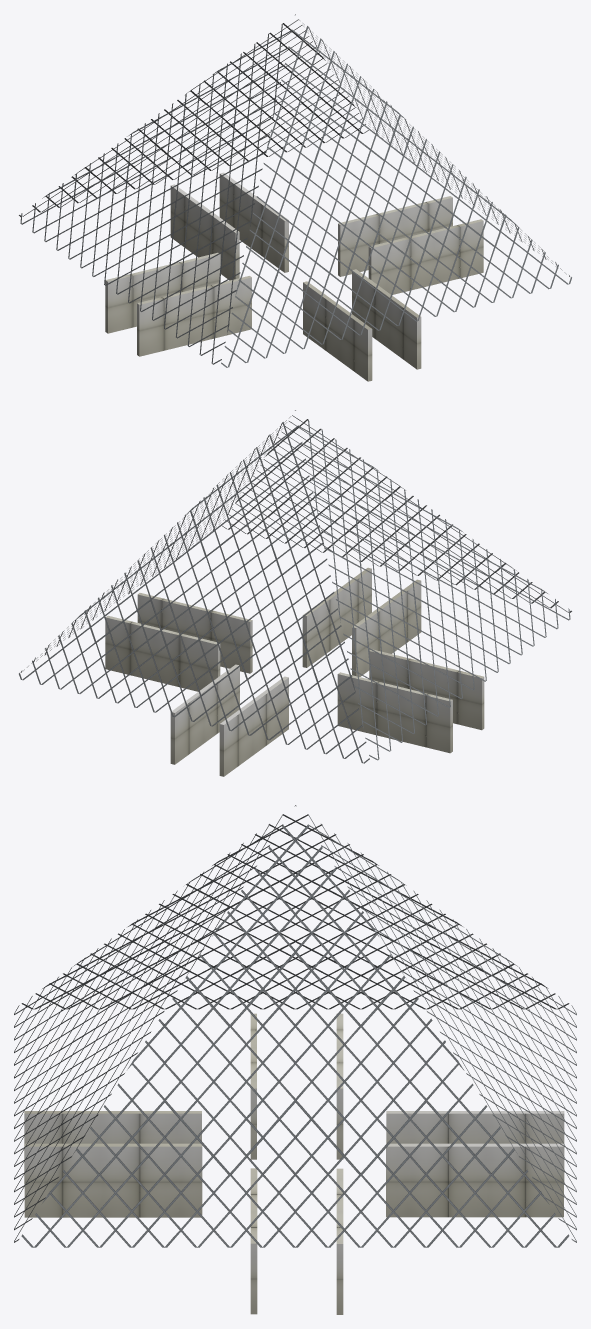
File: techo.obj
3 renders of one model, top to bottom at view 1: azimuth 30°, elevation 25°; view 2: azimuth 150°, elevation 25°; view 3: azimuth 270°, elevation 25°, orthographic. The views are drawn at different scales.
Visible parts, largest first — view 1: Pyramid001, Box009, Box008, Box010, Box011, Box014, Box007, Box012, Box013; view 2: Pyramid001, Box010, Box011, Box009, Box008, Box013, Box012, Box007, Box014; view 3: Pyramid001, Box007, Box012, Box013, Box014, Box011, Box008, Box010, Box009.
Boxes of the visible parts, x1,y1,x2,y2 form: Pyramid001: [19, 14, 571, 367]; Box009: [137, 276, 251, 356]; Box008: [368, 219, 483, 294]; Box010: [105, 252, 220, 333]; Box011: [338, 196, 452, 276]; Box014: [303, 281, 372, 381]; Box007: [352, 269, 421, 369]; Box012: [219, 172, 288, 272]; Box013: [170, 184, 239, 280]; Pyramid001: [19, 410, 571, 763]; Box010: [337, 672, 452, 753]; Box011: [105, 615, 220, 691]; Box009: [369, 649, 484, 730]; Box008: [137, 593, 252, 673]; Box013: [219, 676, 288, 776]; Box012: [170, 664, 239, 764]; Box007: [302, 567, 371, 667]; Box014: [352, 579, 421, 676]; Pyramid001: [14, 805, 576, 1247]; Box007: [24, 1143, 202, 1217]; Box012: [386, 1143, 563, 1217]; Box013: [386, 1111, 564, 1183]; Box014: [24, 1111, 201, 1184]; Box011: [336, 1168, 343, 1314]; Box008: [250, 1168, 257, 1314]; Box010: [336, 1013, 343, 1159]; Box009: [250, 1013, 256, 1159].
Bounding box in the file's own units: 240 × 185 × 240.
Materials: 2 (2 with a texture image).
